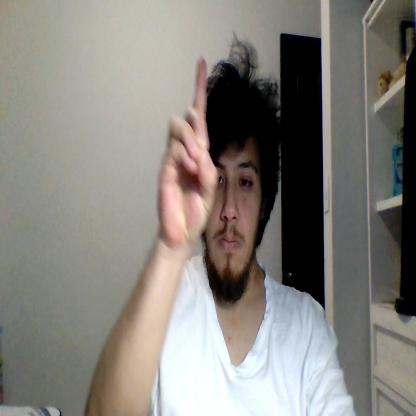D: (156, 57, 217, 247)
